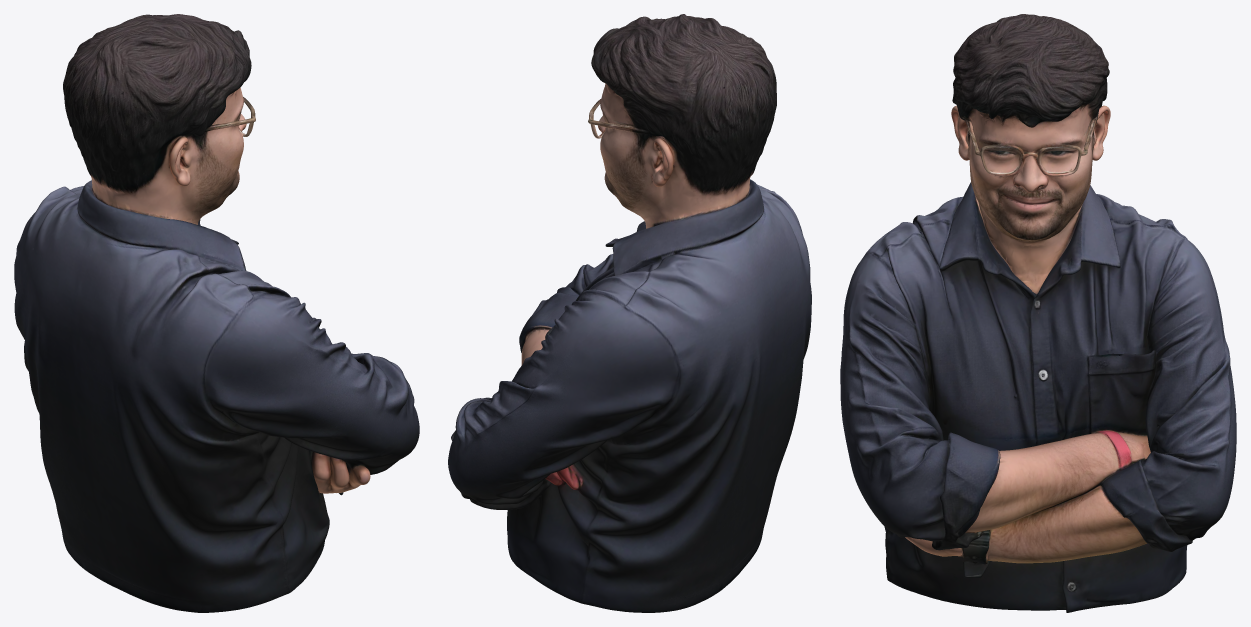
Rendered from hero.glb.
3 views of the same model, side by side, from view 1: azimuth 30°, elevation 25°; view 2: azimuth 150°, elevation 25°; view 3: azimuth 270°, elevation 25° (orthographic).
Parts seen in each view (by area): view 1: tripo_node_338965b3-0910-40c5-bd4a-5c0207bb6500; view 2: tripo_node_338965b3-0910-40c5-bd4a-5c0207bb6500; view 3: tripo_node_338965b3-0910-40c5-bd4a-5c0207bb6500.
Boxes of the visible parts, x1,y1,x2,y2 form: tripo_node_338965b3-0910-40c5-bd4a-5c0207bb6500: (14,14,419,612); tripo_node_338965b3-0910-40c5-bd4a-5c0207bb6500: (448,14,811,612); tripo_node_338965b3-0910-40c5-bd4a-5c0207bb6500: (840,14,1236,612).
Bounding box in the file's own units: 0.5827 × 1.02 × 0.676.
Materials: 1 (1 with a texture image).
